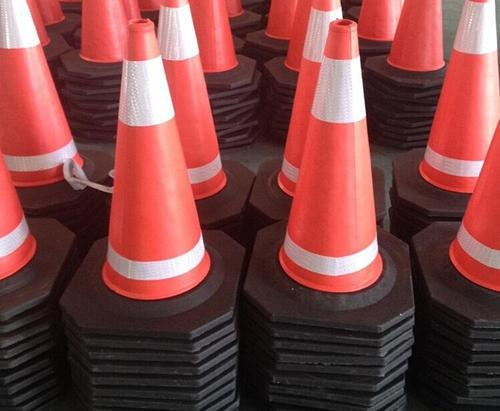cone_barrel: (94, 21, 216, 312), (268, 20, 392, 299), (414, 0, 499, 193), (154, 2, 228, 201), (446, 120, 499, 289), (384, 0, 446, 73), (189, 0, 246, 76), (73, 0, 133, 65)
